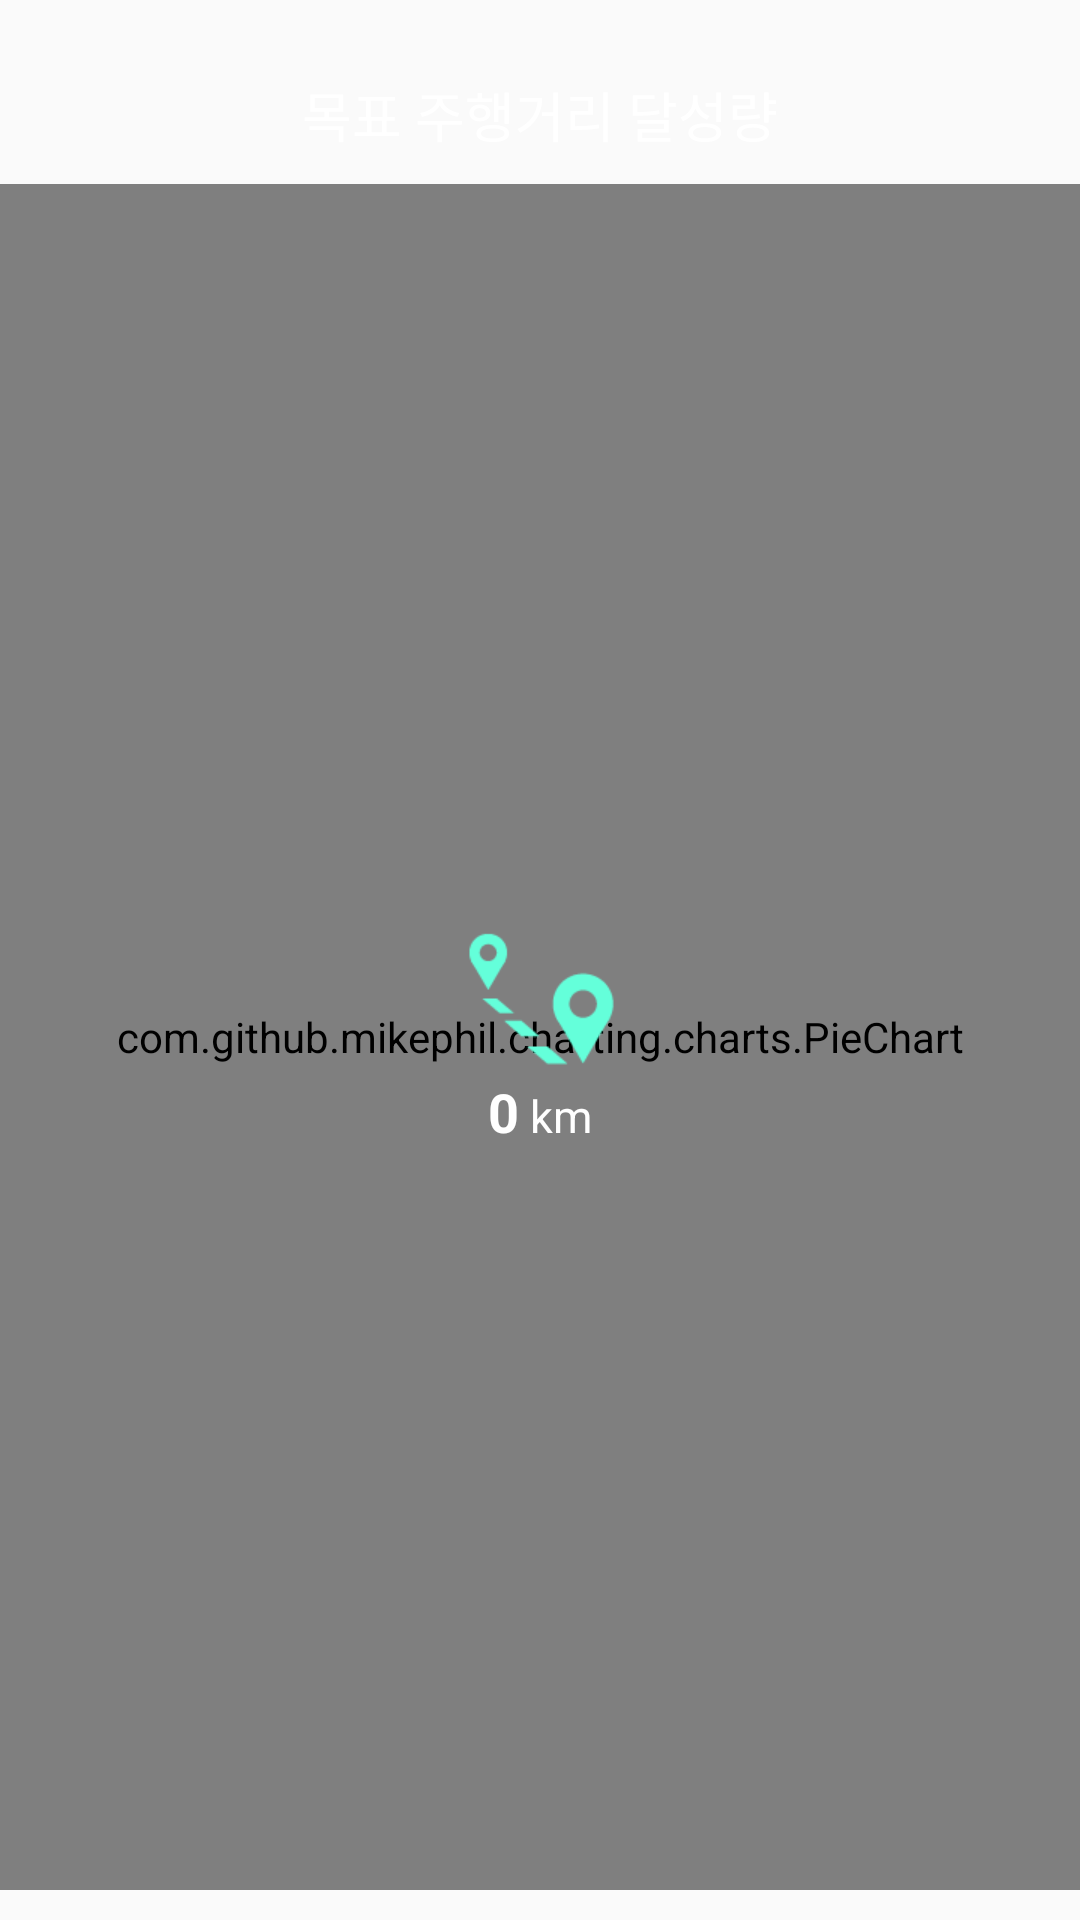

Icons on this 1080w x 1920h Android screen, each with the point to tap as point (x, y):
distance: point (541, 999)
